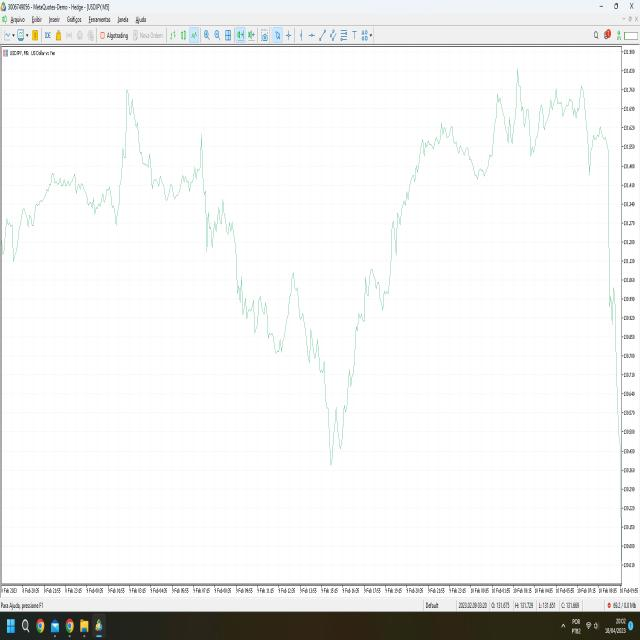fundo_duplo: (313, 319, 359, 482), (118, 71, 154, 197)
